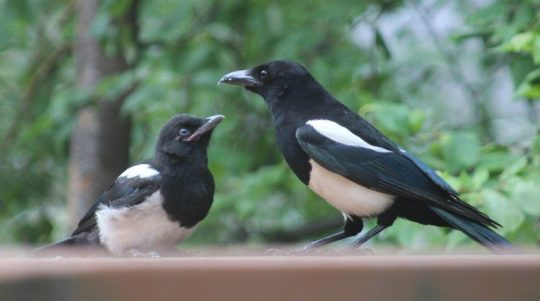magpie: (212, 60, 514, 253), (49, 111, 225, 262)
